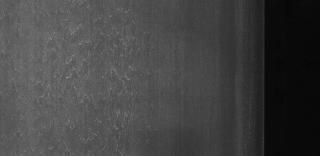silk spot: (26, 94, 132, 144), (96, 59, 176, 97), (89, 8, 147, 52), (38, 50, 90, 91), (36, 12, 84, 42)
